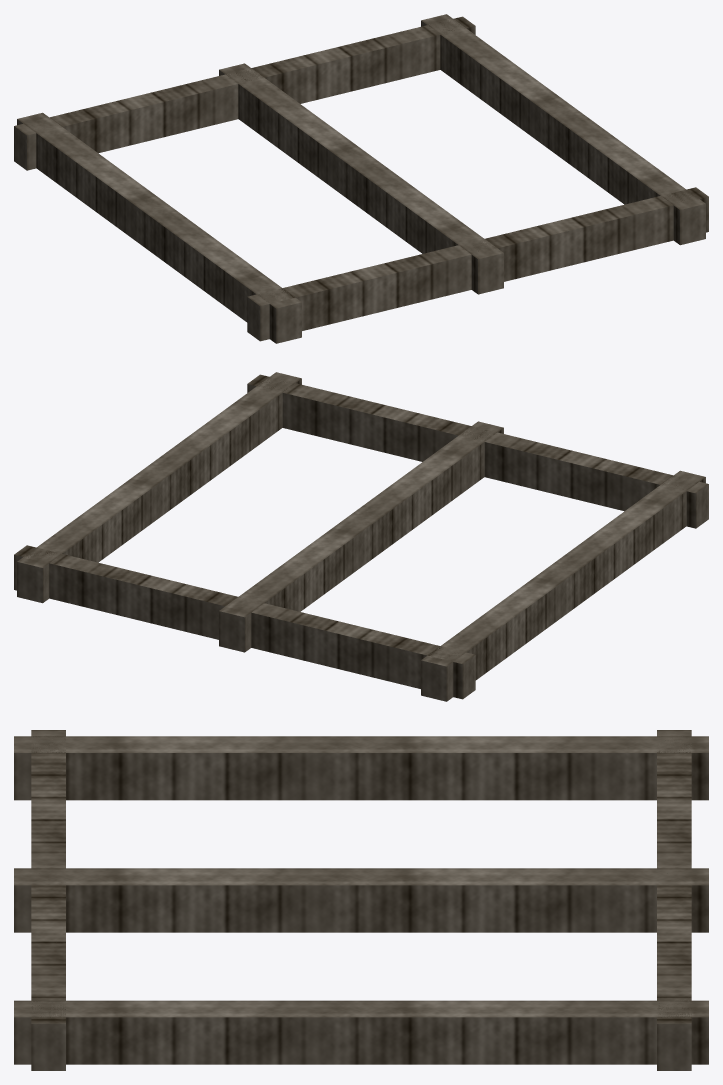
The model's file is turm_deckenbalken_4m.glb.
3 views of the same model, one above another, from view 1: azimuth 30°, elevation 25°; view 2: azimuth 150°, elevation 25°; view 3: azimuth 270°, elevation 25° (orthographic). The views are drawn at different scales.
Visible parts, largest first — view 1: turm_deckenbalken_4m_004, turm_deckenbalken_4m_003, turm_deckenbalken_4m_000, turm_deckenbalken_4m_001, turm_deckenbalken_4m_002; view 2: turm_deckenbalken_4m_003, turm_deckenbalken_4m_004, turm_deckenbalken_4m_000, turm_deckenbalken_4m_001, turm_deckenbalken_4m_002; view 3: turm_deckenbalken_4m_001, turm_deckenbalken_4m_002, turm_deckenbalken_4m_000, turm_deckenbalken_4m_004, turm_deckenbalken_4m_003.
Part boxes in pixels (box(x1,y1,x2,y2)): turm_deckenbalken_4m_004: box(247, 187, 708, 341); turm_deckenbalken_4m_003: box(14, 16, 475, 170); turm_deckenbalken_4m_000: box(17, 112, 301, 343); turm_deckenbalken_4m_001: box(219, 63, 503, 294); turm_deckenbalken_4m_002: box(421, 14, 705, 245); turm_deckenbalken_4m_003: box(14, 545, 475, 699); turm_deckenbalken_4m_004: box(247, 374, 708, 528); turm_deckenbalken_4m_000: box(421, 470, 705, 701); turm_deckenbalken_4m_001: box(219, 421, 503, 652); turm_deckenbalken_4m_002: box(17, 372, 301, 603); turm_deckenbalken_4m_001: box(14, 868, 708, 932); turm_deckenbalken_4m_002: box(14, 1000, 708, 1064); turm_deckenbalken_4m_000: box(14, 736, 708, 800); turm_deckenbalken_4m_004: box(31, 730, 65, 1070); turm_deckenbalken_4m_003: box(657, 730, 691, 1070).
Size of the model in its own units: 4 by 0.3 by 4.
Materials: 1 (1 with a texture image).
